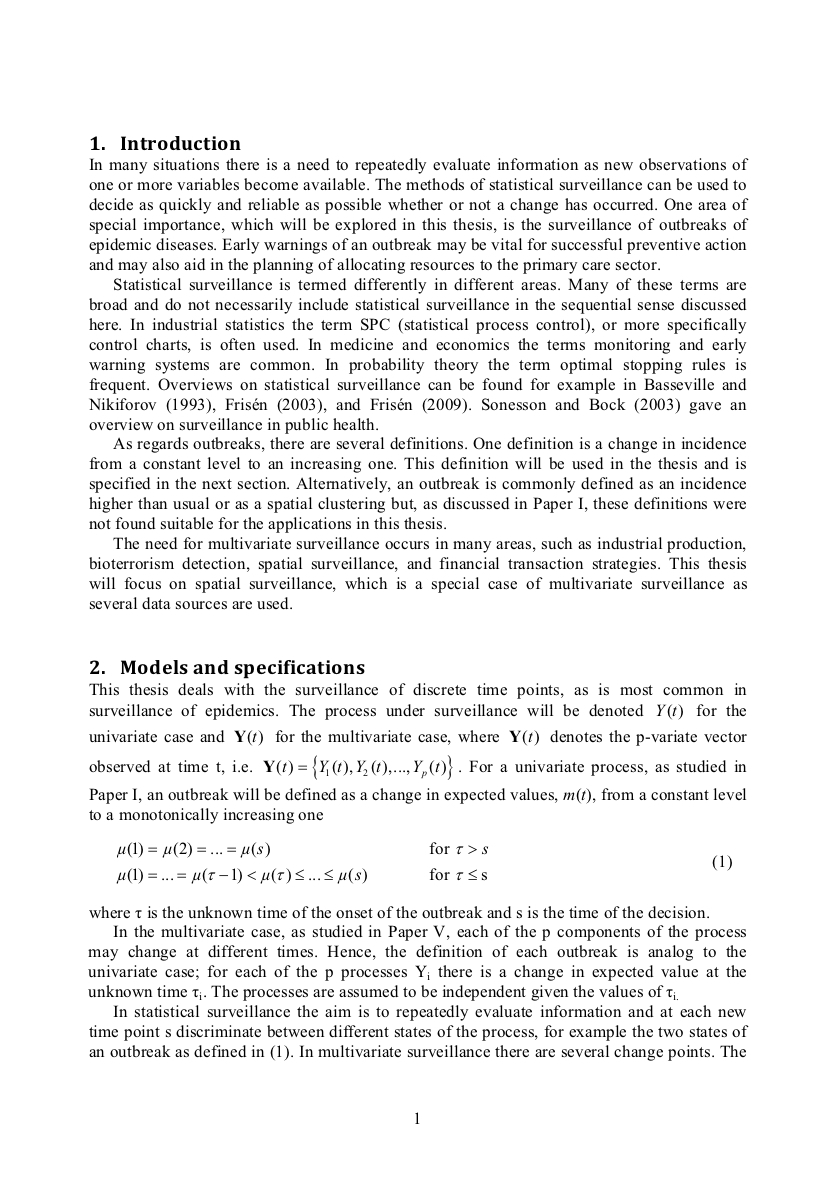formula: (116, 841, 731, 884)
